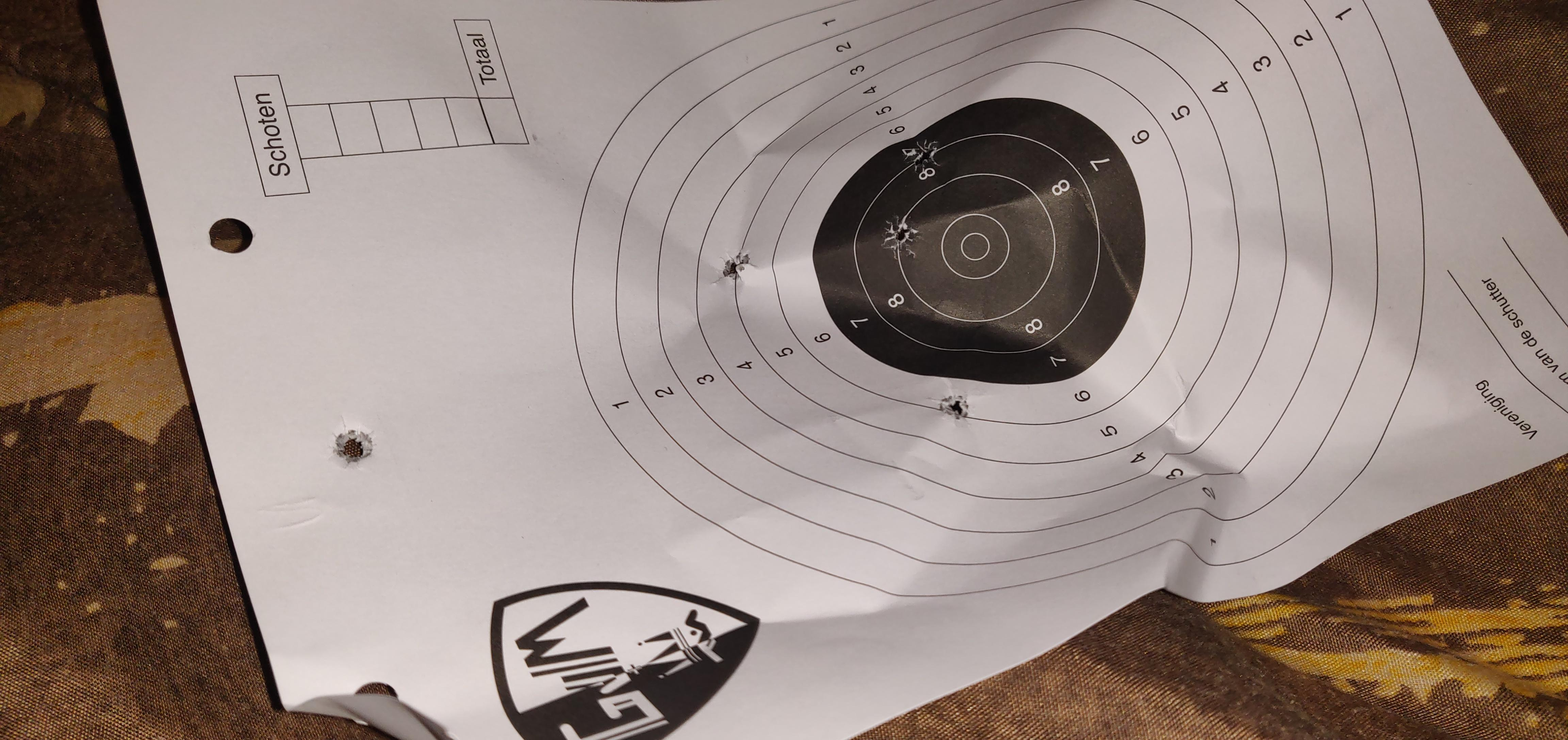hole: (581, 155, 677, 178), (965, 335, 1045, 356), (1197, 426, 1280, 445), (1025, 416, 1112, 434), (670, 441, 737, 459)
